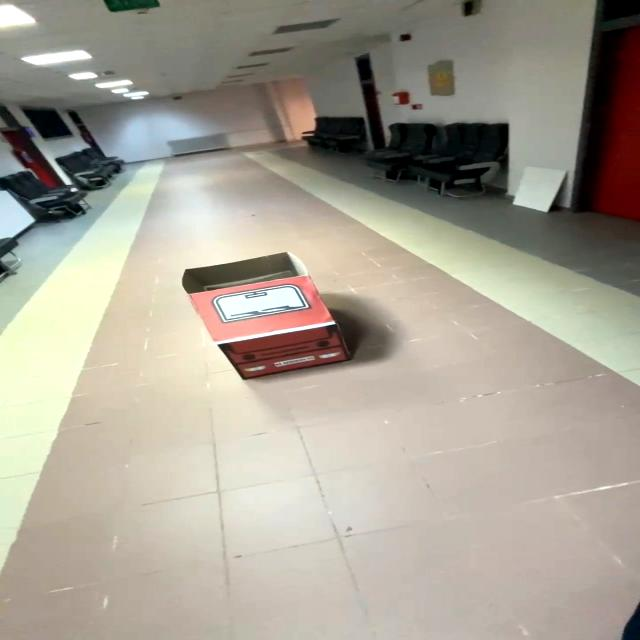red_car: (158, 242, 408, 391)
